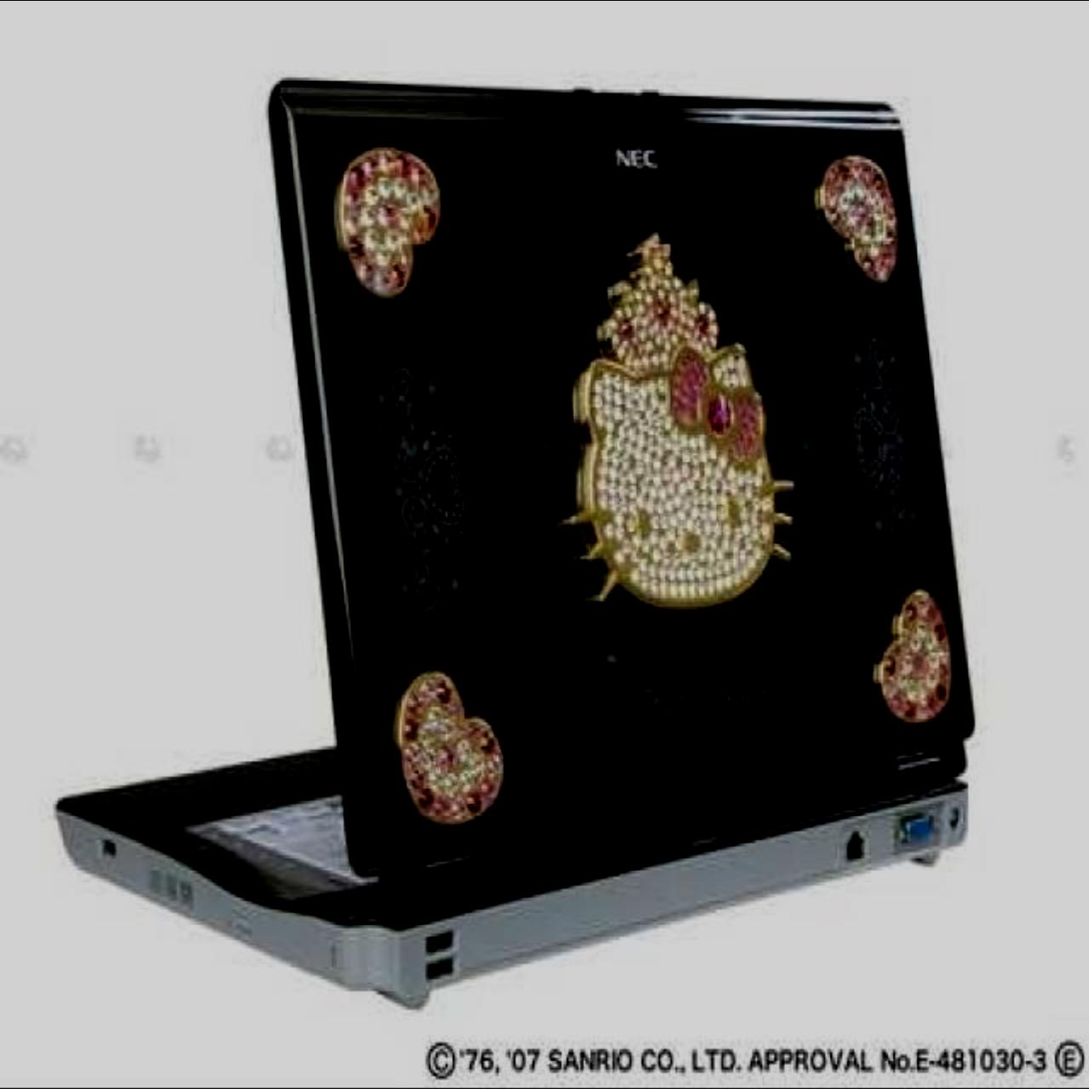laptop: (53, 73, 982, 1026)
